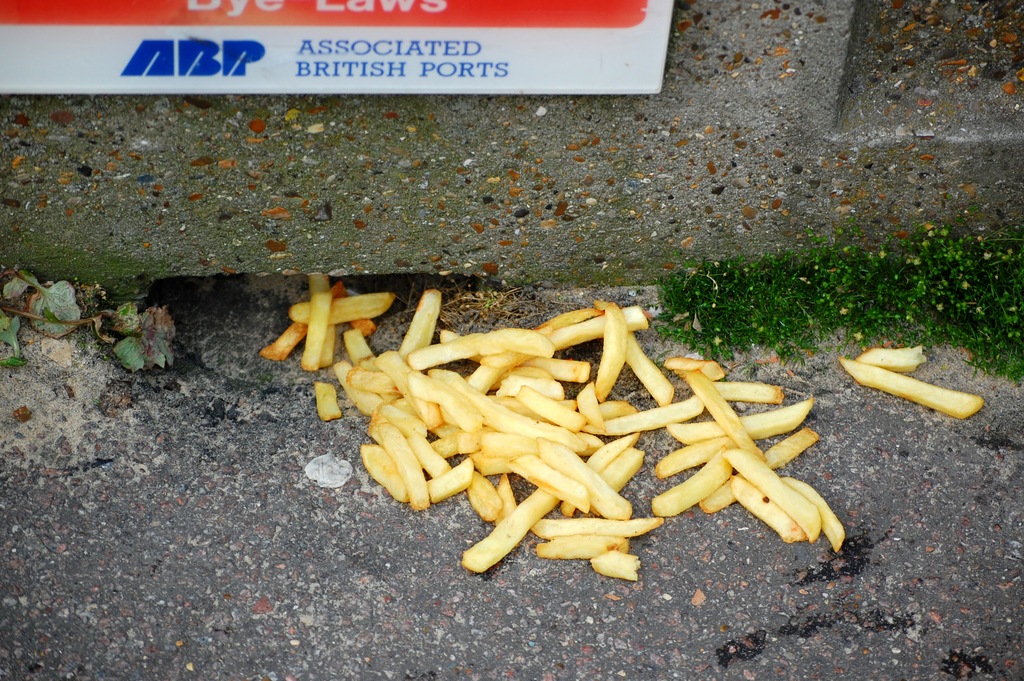French fries: (432, 367, 581, 445), (696, 421, 817, 516), (842, 353, 981, 423), (457, 487, 557, 576), (724, 443, 812, 543), (535, 438, 631, 521), (682, 364, 762, 463), (256, 281, 349, 363), (558, 431, 644, 515), (668, 393, 816, 440), (409, 324, 552, 370), (648, 441, 732, 518), (778, 468, 846, 547), (399, 372, 481, 437), (732, 474, 805, 545), (583, 397, 700, 441), (368, 415, 421, 509), (383, 401, 442, 479), (649, 431, 744, 477), (585, 445, 650, 512), (378, 348, 432, 428), (293, 286, 395, 328), (622, 326, 670, 403), (512, 382, 586, 431), (590, 301, 625, 401), (354, 440, 403, 502), (299, 273, 330, 368), (529, 517, 664, 538), (330, 279, 376, 332), (339, 361, 378, 423), (398, 286, 433, 354), (424, 458, 479, 499), (573, 373, 609, 432), (534, 533, 622, 556), (857, 345, 931, 372), (348, 365, 403, 401), (496, 370, 564, 398), (586, 552, 639, 584), (472, 429, 539, 454), (661, 352, 719, 380), (318, 372, 348, 423), (352, 323, 373, 363)
